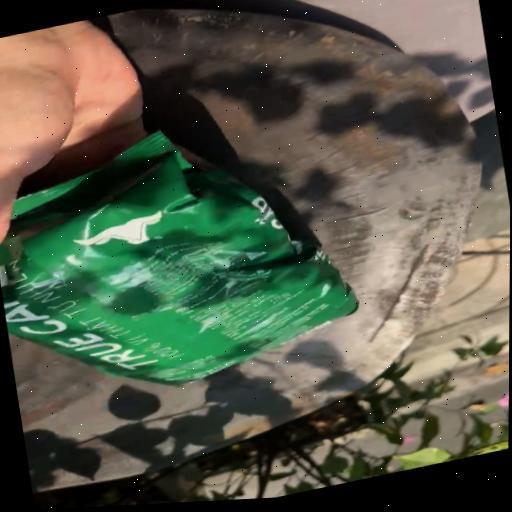cafe_xay: (0, 130, 357, 383)
